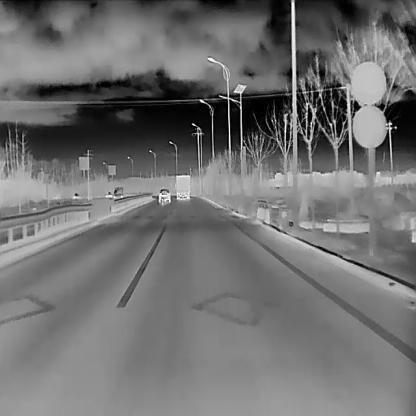car: (174, 174, 190, 199), (157, 188, 171, 203), (112, 186, 123, 199)
